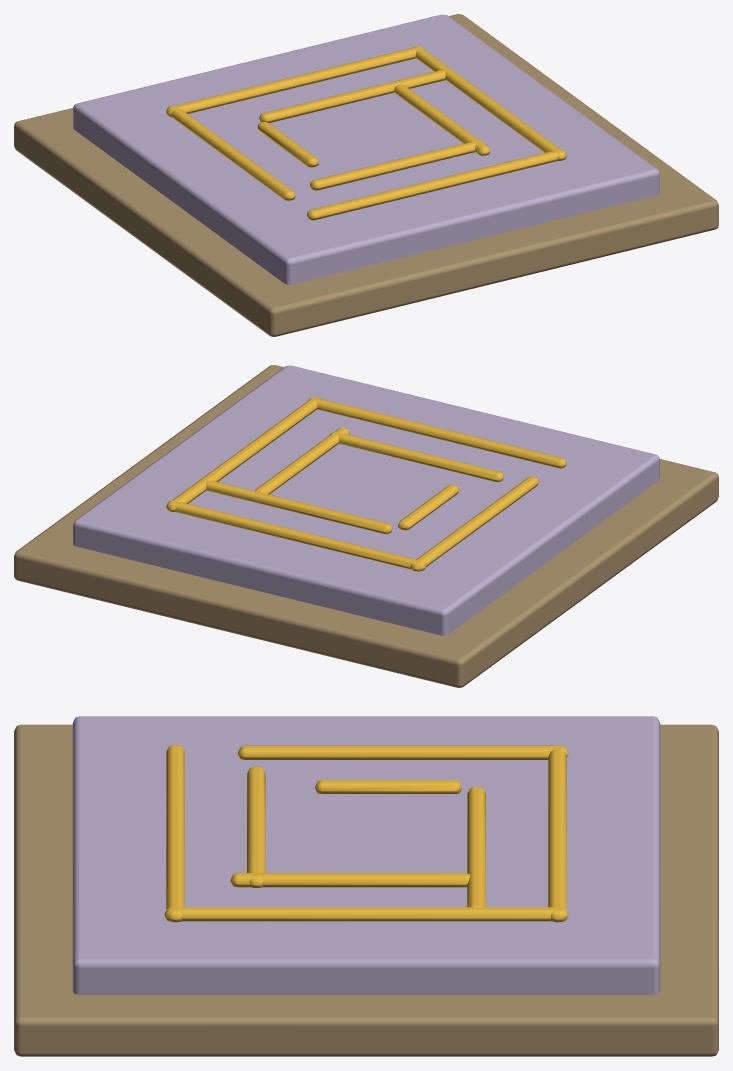
Rendered from placa_pressao.glb.
The picture shows the model from 3 angles, top to bottom: view 1: azimuth 30°, elevation 25°; view 2: azimuth 150°, elevation 25°; view 3: azimuth 270°, elevation 25°; orthographic projection. The views are drawn at different scales.
Parts seen in each view (by area): view 1: Placa, Base; view 2: Placa, Base; view 3: Placa, Base.
Boxes of the visible parts, x1,y1,x2,y2 form: Placa: (73,14,659,284); Base: (14,14,718,336); Placa: (73,365,659,635); Base: (14,365,718,687); Placa: (72,716,660,994); Base: (14,724,718,1056).
Size of the model in its own units: 0.96 by 0.125 by 0.96.
